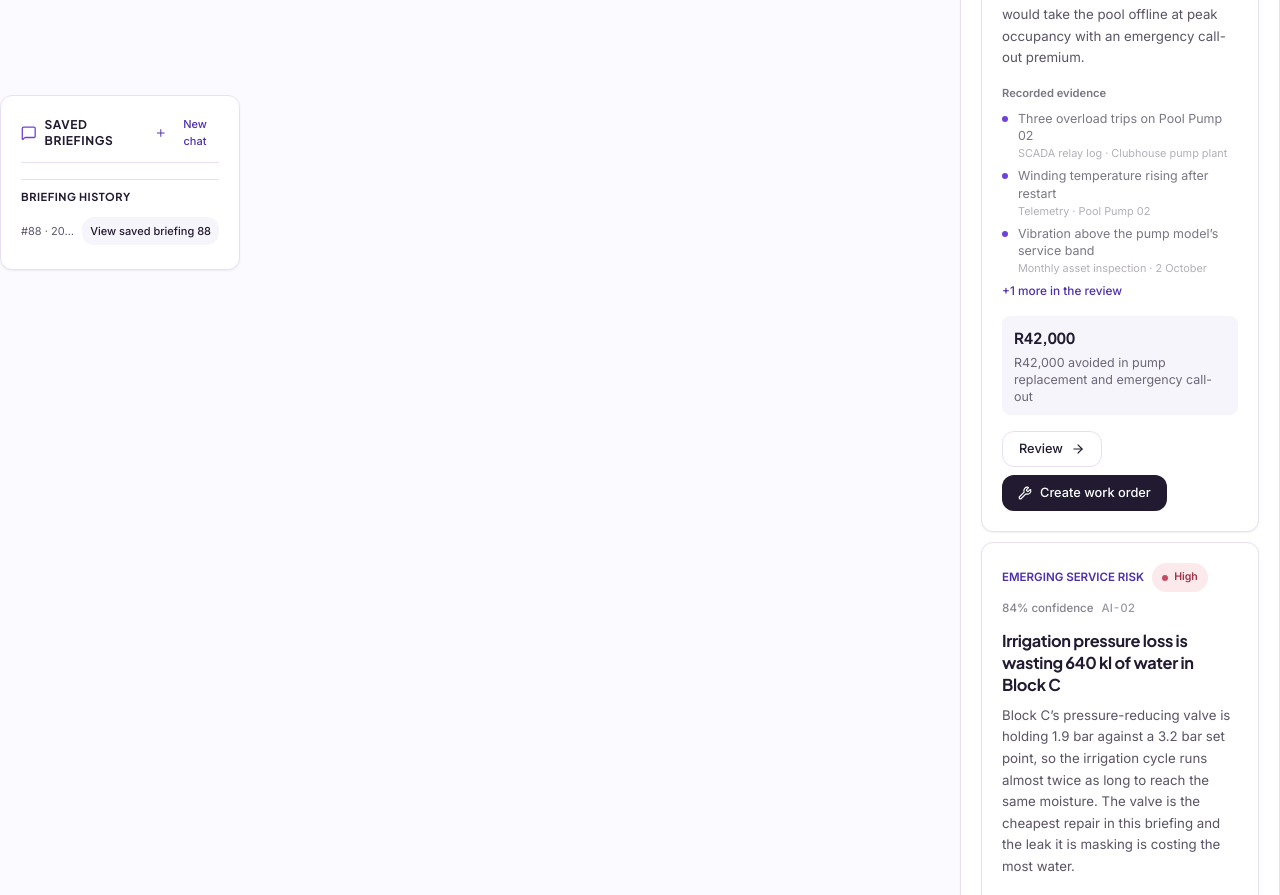
Scenario: VALORA Intelligence › opens the review drawer with the source signals behind a finding
(page scrolled)
Step 1. Click the button "Review" → click(1052, 449), box [1002,431,1102,467]
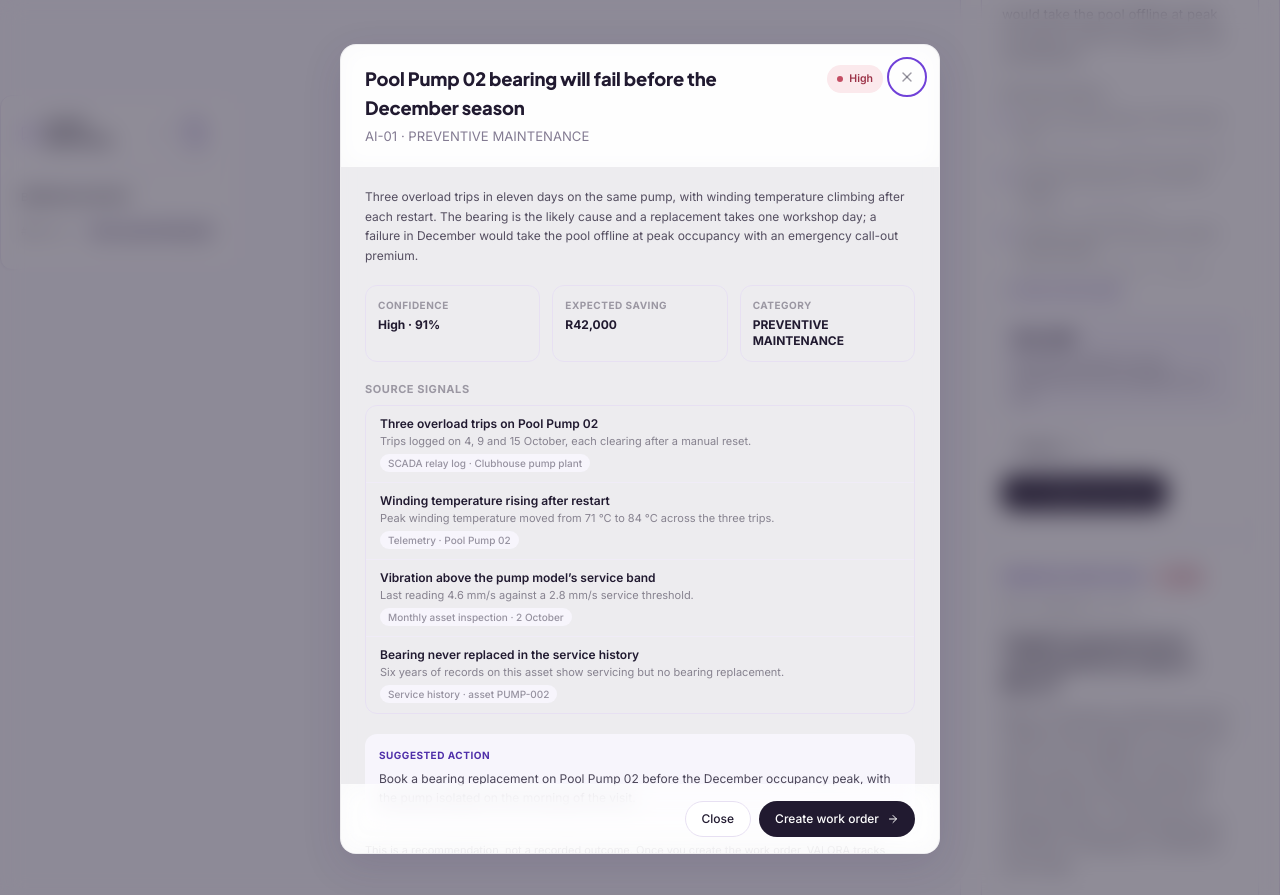
Expected: the text "Source signals" is shown, [365,382,470,396]
Expected: the text "Suggested action" is shown, [379,749,490,761]
